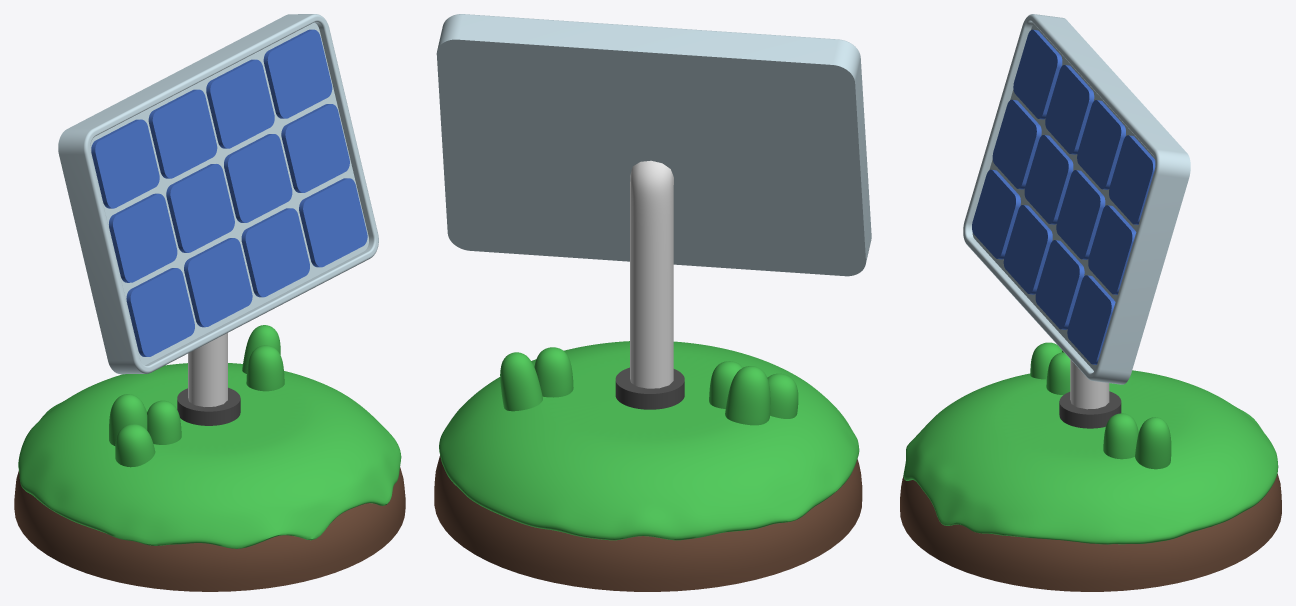
File: Solar Panel.glb
The picture shows the model from 3 angles, left to right: view 1: azimuth 30°, elevation 25°; view 2: azimuth 150°, elevation 25°; view 3: azimuth 270°, elevation 25°; orthographic projection. The views are drawn at different scales.
Visible parts, largest first — view 1: Cube.001, Cylinder.001, Cube, Cylinder, NurbsPath, Cylinder.002, Cube.003, Cube.002, Cube.005, Cube.004, Cube.006; view 2: Cube, Cylinder.001, Cylinder, NurbsPath, Cube.004, Cube.006, Cylinder.002, Cube.003, Cube.002, Cube.005; view 3: Cylinder.001, Cube.001, Cube, Cylinder, Cube.006, Cylinder.002, Cube.003, NurbsPath, Cube.005, Cube.002.
Part boxes in pixels (x1,y1,x2,y2): Cube.001: (91, 29, 367, 356); Cylinder.001: (18, 363, 401, 548); Cube: (58, 14, 378, 374); Cylinder: (14, 467, 405, 591); NurbsPath: (188, 333, 227, 406); Cylinder.002: (177, 387, 240, 425); Cube.003: (246, 345, 284, 391); Cube.002: (115, 424, 155, 467); Cube.005: (147, 400, 181, 444); Cube.004: (109, 394, 147, 445); Cube.006: (242, 325, 280, 373); Cube: (436, 14, 871, 276); Cylinder.001: (439, 341, 859, 540); Cylinder: (434, 455, 862, 591); NurbsPath: (630, 160, 673, 388); Cube.004: (725, 366, 770, 425); Cube.006: (500, 352, 542, 411); Cylinder.002: (615, 367, 684, 409); Cube.003: (534, 347, 573, 397); Cube.002: (767, 373, 798, 418); Cube.005: (709, 361, 742, 408); Cylinder.001: (903, 370, 1278, 544); Cube.001: (972, 29, 1155, 364); Cube: (963, 14, 1190, 384); Cylinder: (900, 474, 1281, 591); Cube.006: (1135, 417, 1171, 469); Cylinder.002: (1059, 391, 1121, 428); Cube.003: (1103, 413, 1138, 459); NurbsPath: (1070, 359, 1109, 409); Cube.005: (1046, 352, 1070, 394); Cube.002: (1030, 342, 1061, 379).
Size of the model in its own units: 5.77 by 7.01 by 5.69.
